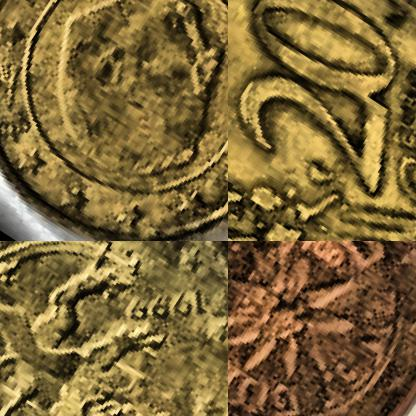coin: (0, 0, 227, 240), (228, 0, 415, 240), (0, 241, 227, 415), (228, 241, 415, 415)
